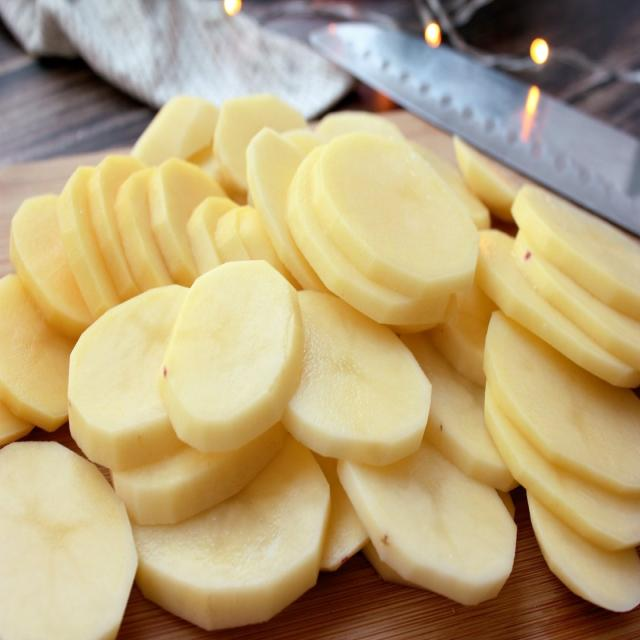papa: (309, 112, 493, 328), (160, 250, 314, 455)
